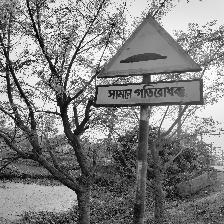Speed-breaker: (95, 14, 204, 109)
